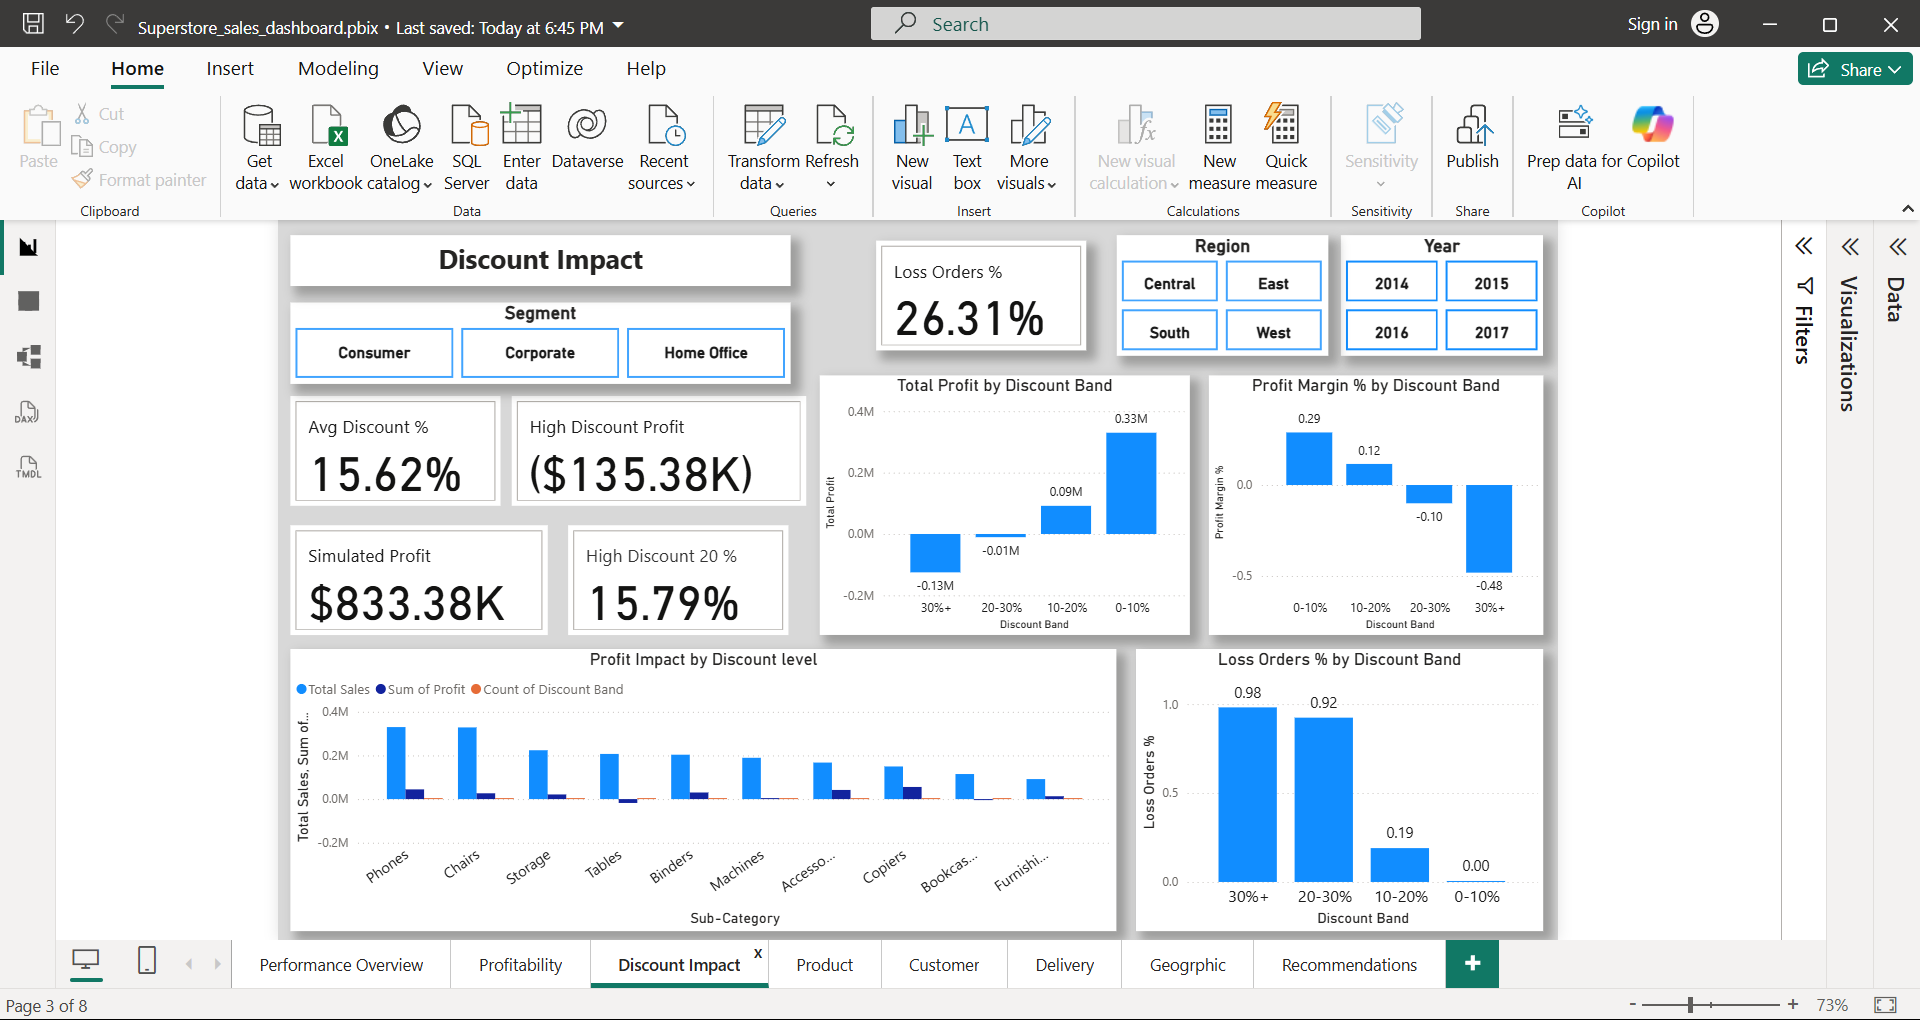

The dashboard page shown, as its layout file describes it:
{"tool":"powerbi","page":{"name":"Discount Impact","canvas":[1280,720],"ordinal":2},"visuals":[{"type":"cardVisual","fields":{"Data":["superstore.Avg Discount %"]},"box":[12.4,176,210.4,110],"z":0},{"type":"cardVisual","fields":{"Data":["superstore.Loss Orders %"]},"box":[598.2,20.6,210.4,110],"z":1000},{"type":"clusteredColumnChart","fields":{"Category":["superstore.Discount Band"],"Y":["superstore.Total Profit"]},"box":[541.9,155.4,369.9,259.9],"z":2000},{"type":"clusteredColumnChart","fields":{"Category":["superstore.Discount Band"],"Y":["superstore.Profit Margin %"]},"box":[931.1,155.4,334.2,259.9],"z":3000},{"type":"clusteredColumnChart","title":"Profit Impact by Discount level","fields":{"Y":["superstore.Total Sales","Sum(superstore.Profit)","CountNonNull(superstore.Discount Band)"],"Category":["superstore.Sub-Category"]},"box":[12.4,429.1,826.5,281.9],"z":4000},{"type":"clusteredColumnChart","fields":{"Category":["superstore.Discount Band"],"Y":["superstore.Loss Orders %"]},"box":[858.2,429.1,407.1,281.9],"z":5000},{"type":"cardVisual","fields":{"Data":["superstore.High Discount Profit"]},"box":[233.8,176,294.3,110],"z":6000},{"type":"cardVisual","fields":{"Data":["superstore.High Discount %"]},"box":[290.2,305.3,220,110],"z":7000},{"type":"cardVisual","fields":{"Data":["superstore.Simulated Profit"]},"box":[12.4,305.3,257.2,110],"z":8000},{"type":"advancedSlicerVisual","fields":{"Values":["DateTable.Date.Variation.Date Hierarchy.Year"]},"box":[1063.1,15.1,202.2,121],"z":9000},{"type":"advancedSlicerVisual","fields":{"Values":["superstore.Region"]},"box":[838.9,15.1,211.8,121],"z":10000},{"type":"advancedSlicerVisual","fields":{"Values":["superstore.Segment"]},"box":[12.4,82.5,500.6,81.1],"z":11000},{"type":"textbox","box":[12.4,15.1,500.6,50.9],"z":12000}]}

Visuals, with their boxes on the page's 1280x720 design canvas (x1, y1, x2, y2). These are canvas units, not pixel positions in the 1920x1020 screenshot, which may show the page scaled, cropped or inside an application window:
cardVisual - superstore.Avg Discount %: 12,176,223,286
cardVisual - superstore.Loss Orders %: 598,21,809,131
clusteredColumnChart - superstore.Discount Band x superstore.Total Profit: 542,155,912,415
clusteredColumnChart - superstore.Discount Band x superstore.Profit Margin %: 931,155,1265,415
"Profit Impact by Discount level" clusteredColumnChart: 12,429,839,711
clusteredColumnChart - superstore.Discount Band x superstore.Loss Orders %: 858,429,1265,711
cardVisual - superstore.High Discount Profit: 234,176,528,286
cardVisual - superstore.High Discount %: 290,305,510,415
cardVisual - superstore.Simulated Profit: 12,305,270,415
advancedSlicerVisual - DateTable.Date.Variation.Date Hierarchy.Year: 1063,15,1265,136
advancedSlicerVisual - superstore.Region: 839,15,1051,136
advancedSlicerVisual - superstore.Segment: 12,82,513,164
textbox: 12,15,513,66
